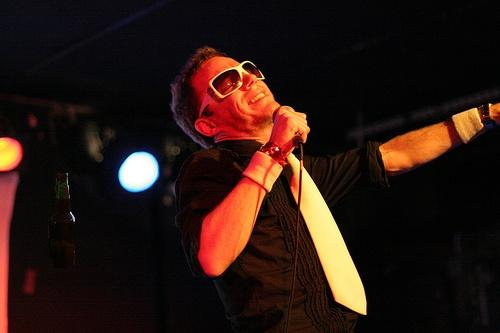tampered: (49, 174, 75, 268)
